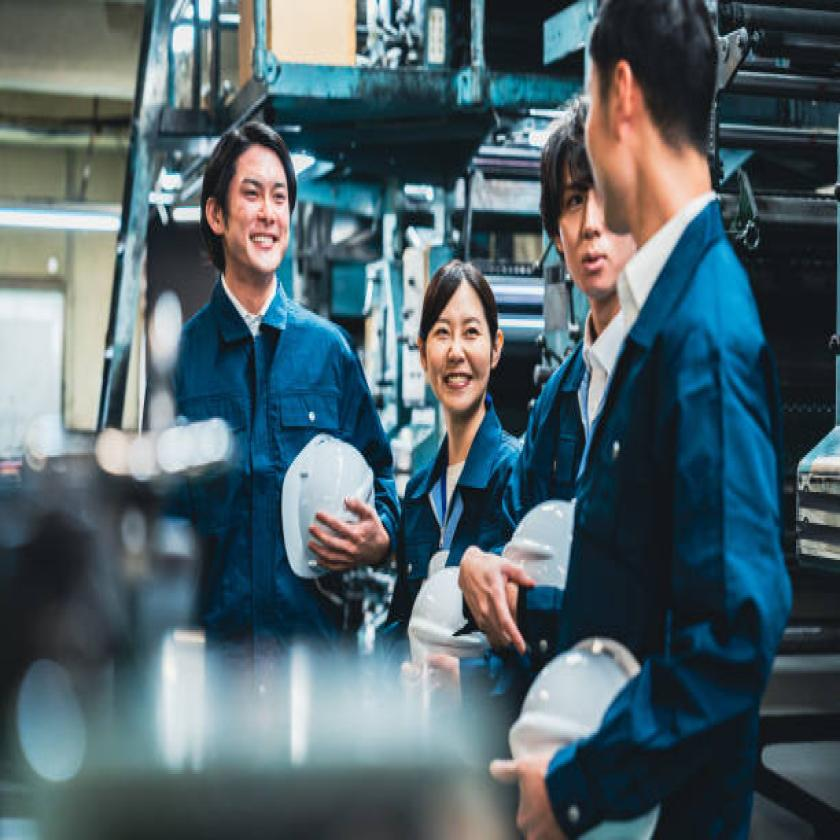Sin_casco: (583, 0, 725, 225), (176, 112, 319, 314), (538, 109, 632, 298), (409, 247, 505, 427)
